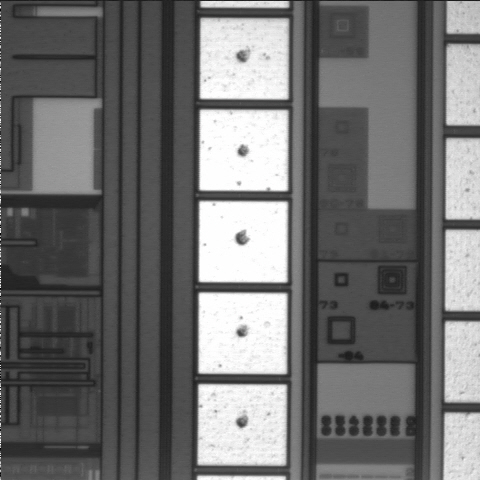pad: (199, 201, 288, 283), (198, 384, 287, 466), (200, 18, 289, 99), (199, 110, 288, 191), (199, 293, 287, 374)
